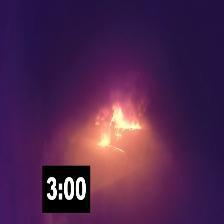fire: (94, 94, 141, 151)
